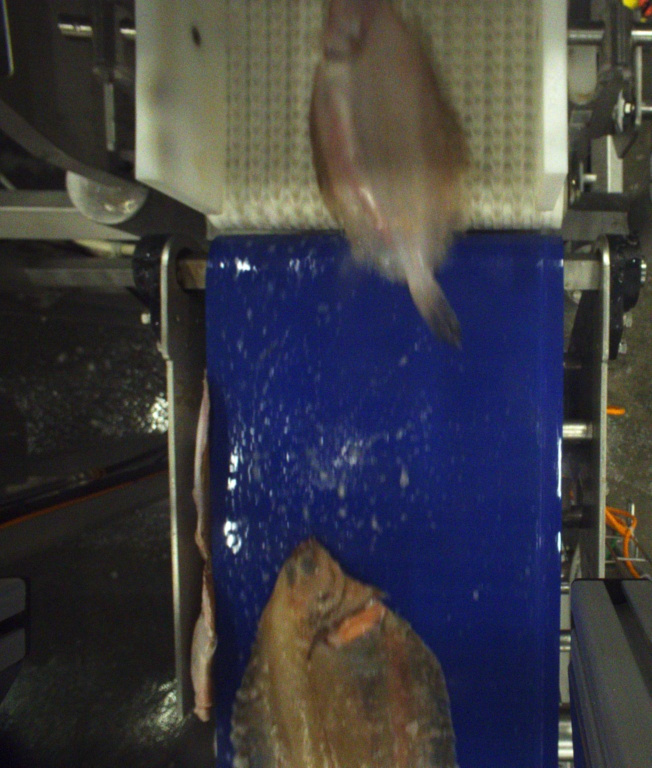WIT: (220, 537, 463, 768)
